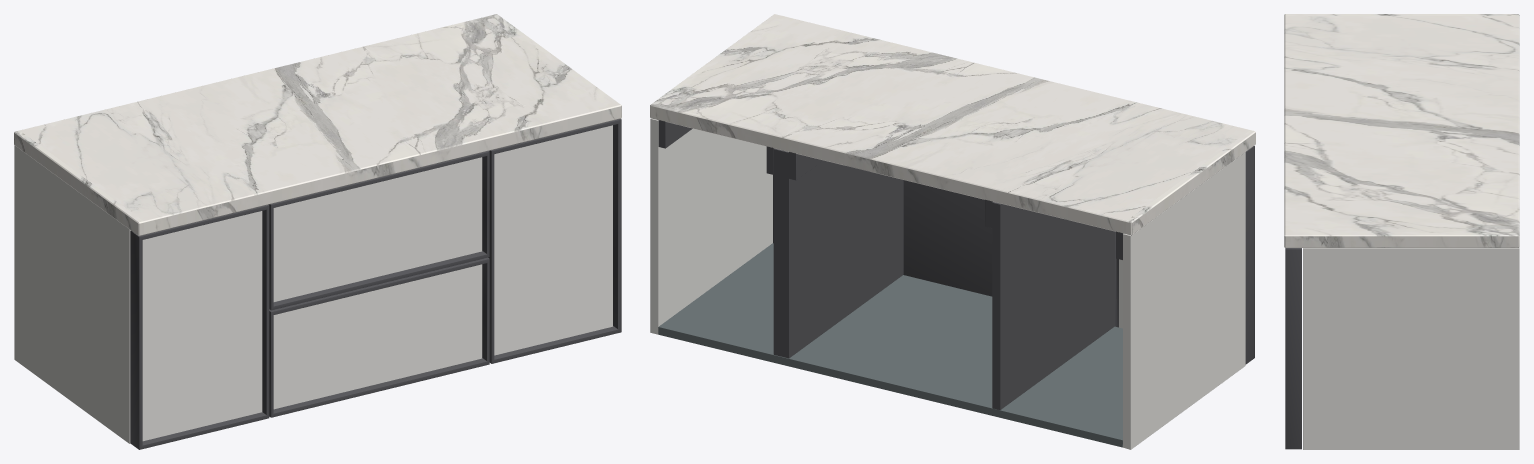
The picture shows the model from 3 angles, left to right: view 1: azimuth 30°, elevation 25°; view 2: azimuth 150°, elevation 25°; view 3: azimuth 270°, elevation 25°; orthographic projection. The views are drawn at different scales.
Parts seen in each view (by area): view 1: AT08; view 2: AT08; view 3: AT08.
Part boxes in pixels (x1,y1,x2,y2): AT08: (14, 14, 621, 449); AT08: (650, 14, 1255, 449); AT08: (1284, 14, 1519, 449).
Size of the model in its own units: 1.09 by 0.4933 by 0.4893.
5 materials, 3 textured.
